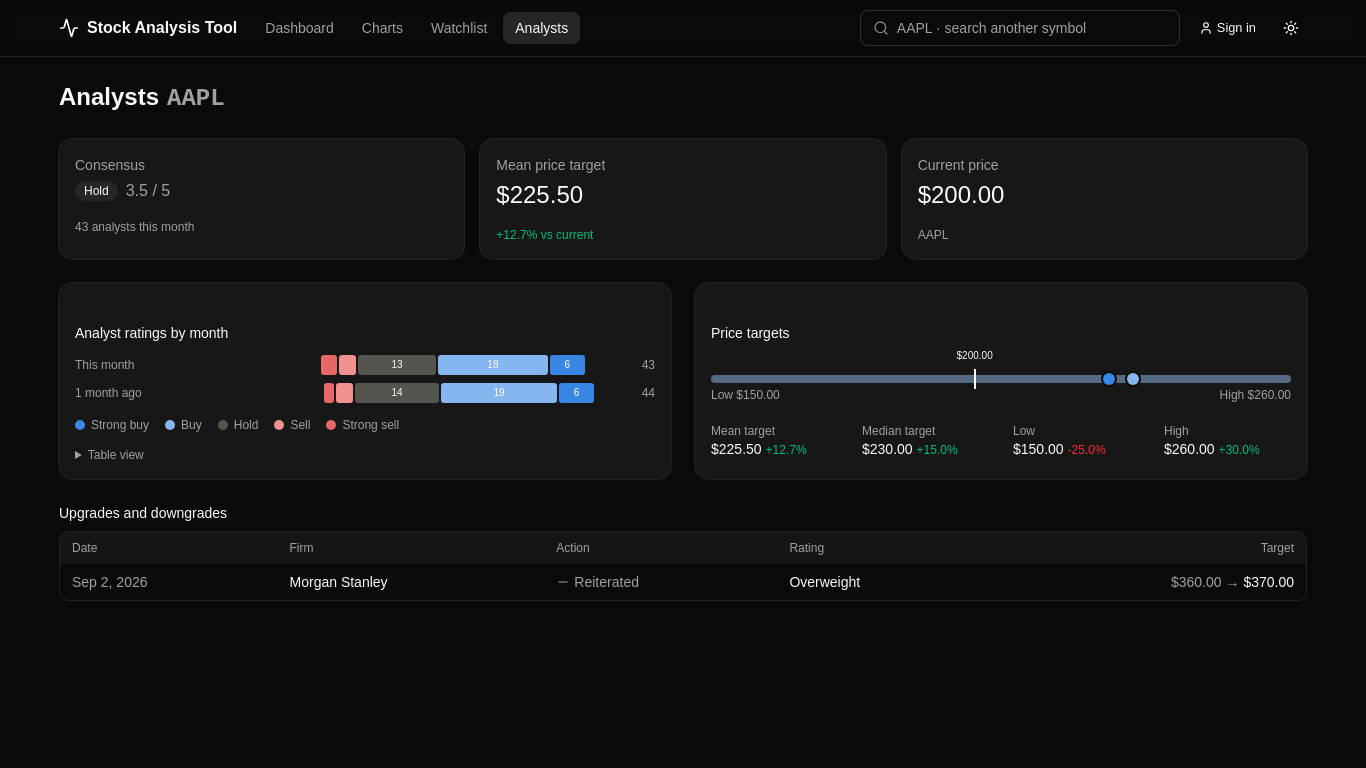
Scenario: AnalystsPage › hovering a segment shows its tooltip and the table view lists counts
The width and height of the screenshot is (1366, 768).
Hover over the picture named "13 hold": (397, 365) [358,355,436,375]
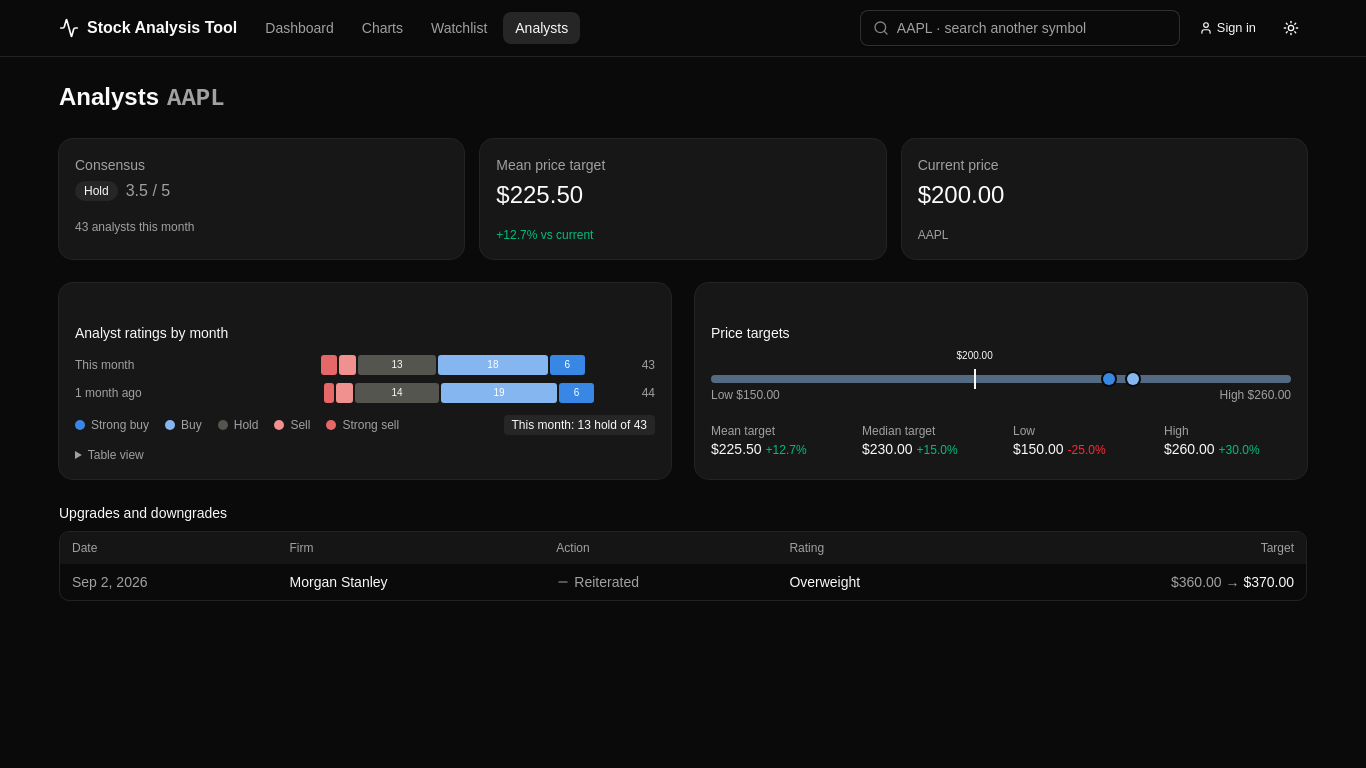
Expected: the message reads "This month: 13 hold of 43", [504,415,655,435]
Click the heading "Table view": (116, 455) [88,448,144,462]
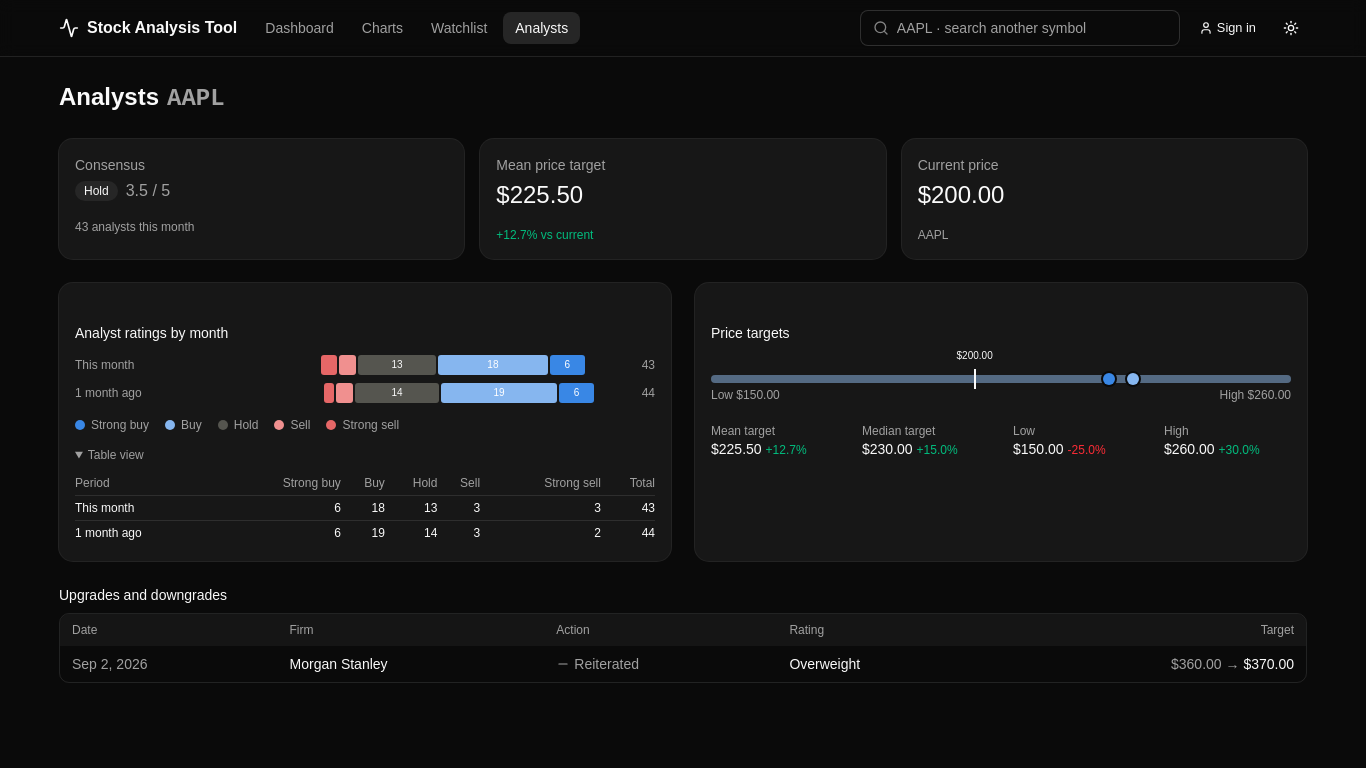
Expected: the table that starts with "Period" shows "1 month ago", [75,526,142,540]
